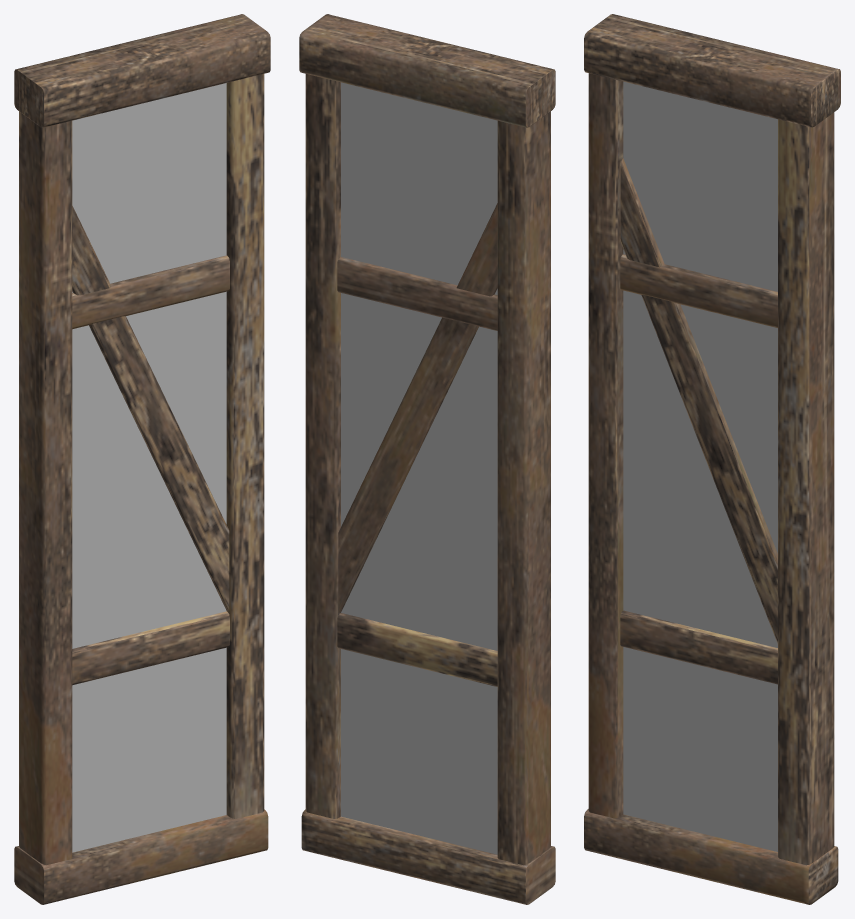
The model's file is HalfTimber_SingleThin_Closed.fbx.
3 views of the same model, side by side, from view 1: azimuth 30°, elevation 25°; view 2: azimuth 150°, elevation 25°; view 3: azimuth 330°, elevation 25° (orthographic).
Parts seen in each view (by area): view 1: HalfTimber_SingleThin_Closed_LOD0; view 2: HalfTimber_SingleThin_Closed_LOD0; view 3: HalfTimber_SingleThin_Closed_LOD0.
Boxes of the visible parts, x1=… form: HalfTimber_SingleThin_Closed_LOD0: x1=14, y1=14, x2=270, y2=904; HalfTimber_SingleThin_Closed_LOD0: x1=299, y1=14, x2=555, y2=904; HalfTimber_SingleThin_Closed_LOD0: x1=584, y1=14, x2=840, y2=904.
Size of what is drawn, in the model's own units: 36.06 by 124 by 8.18.
